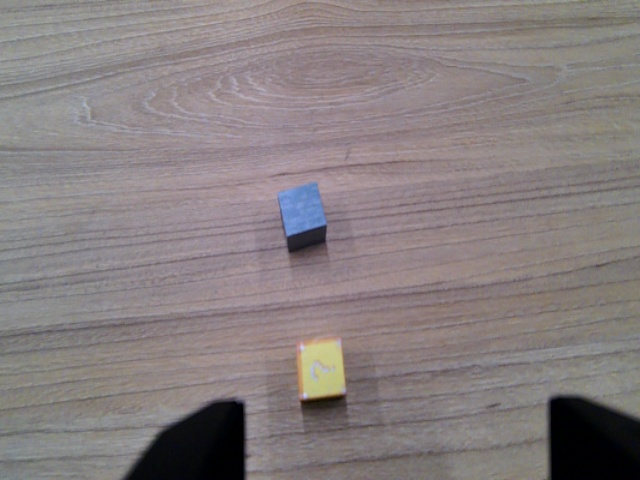lucky: (290, 336, 352, 407)
stone: (270, 178, 336, 255)
